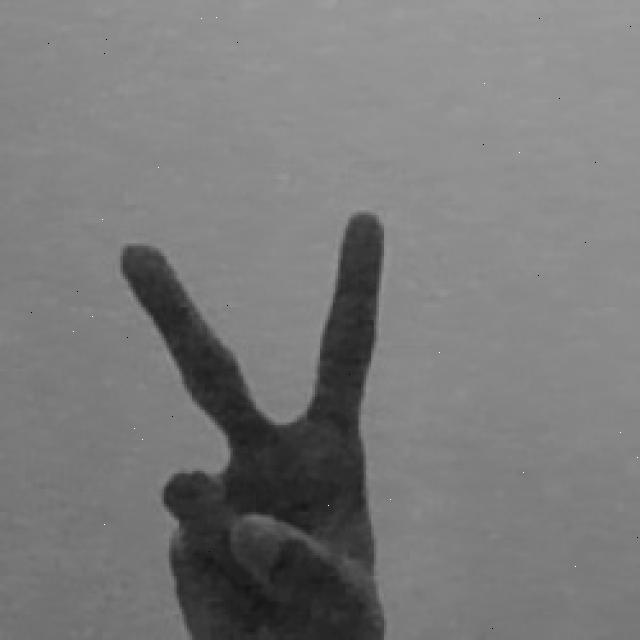V: (116, 206, 394, 640)
